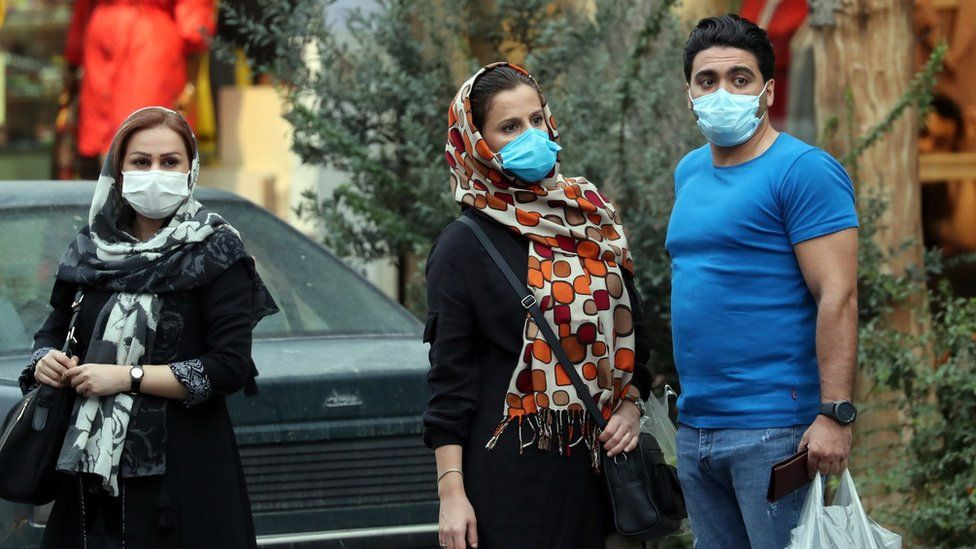with_mask: (692, 51, 758, 130), (491, 103, 553, 159), (131, 143, 182, 206)
